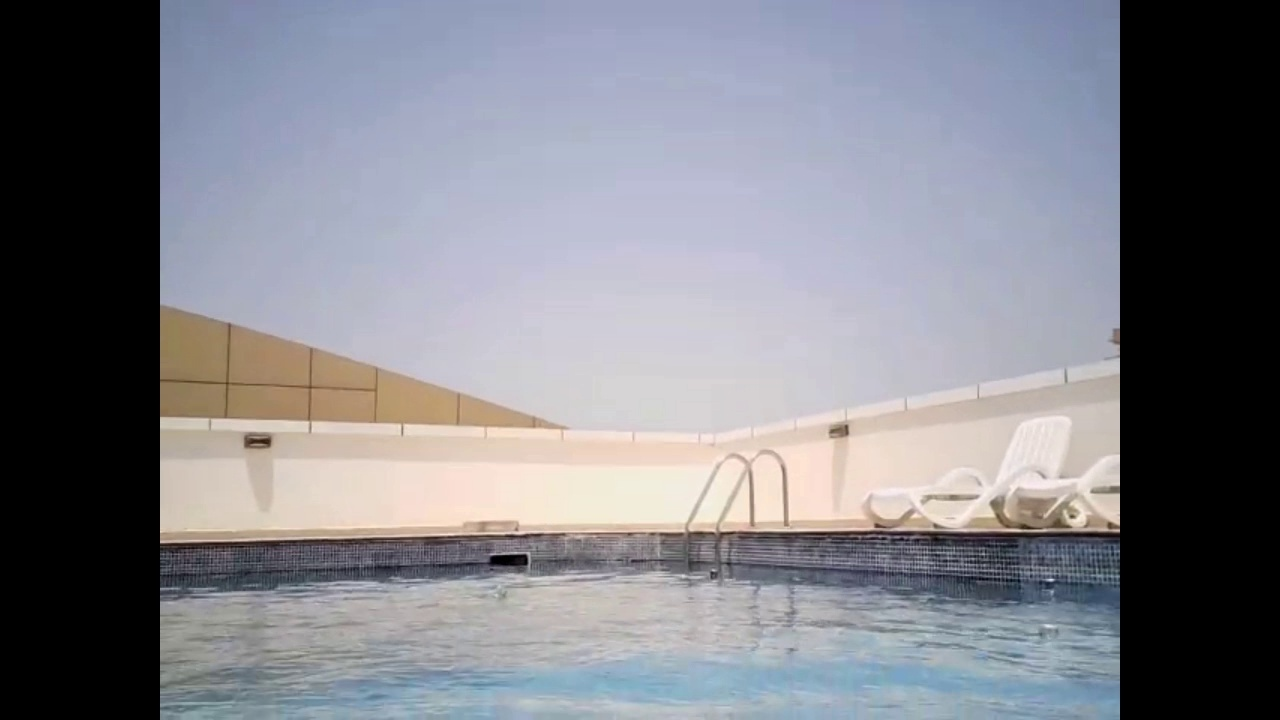debris: (1033, 619, 1061, 643), (1036, 574, 1058, 590), (492, 586, 505, 602), (706, 566, 720, 579)
